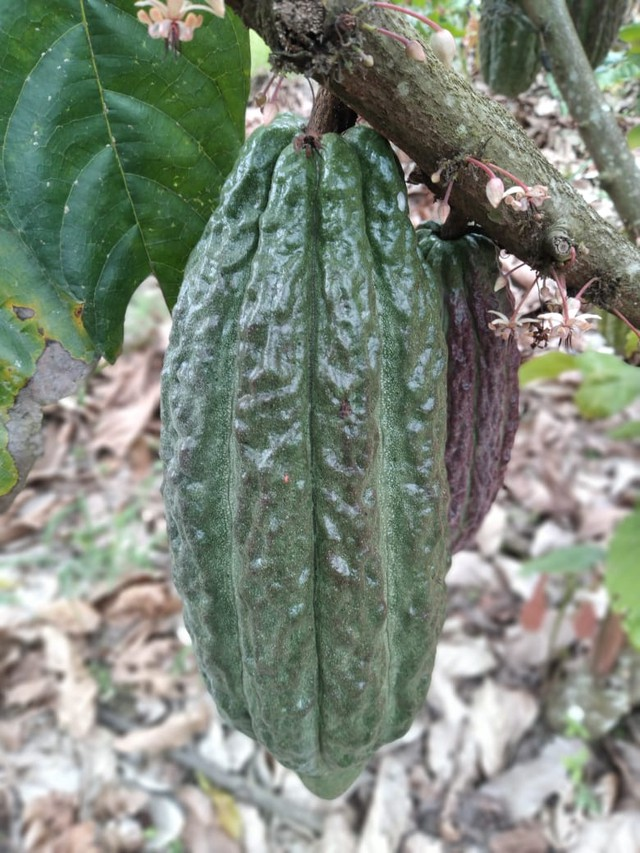Health: (146, 42, 472, 823)
